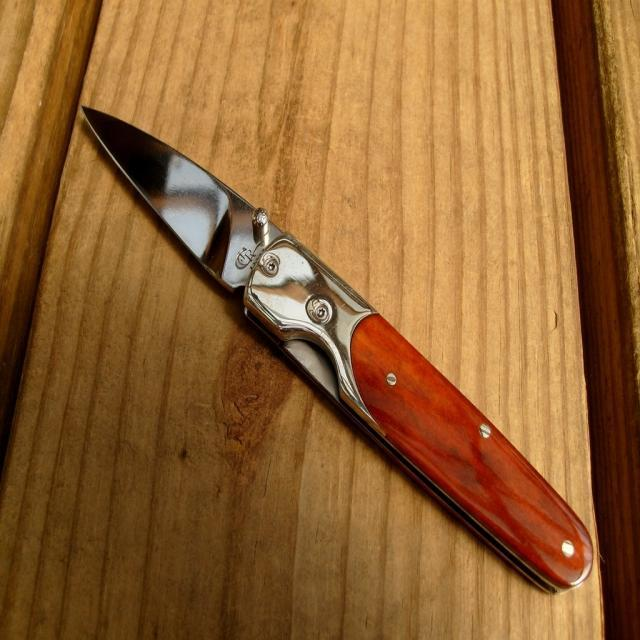Knife: (84, 108, 592, 589)
